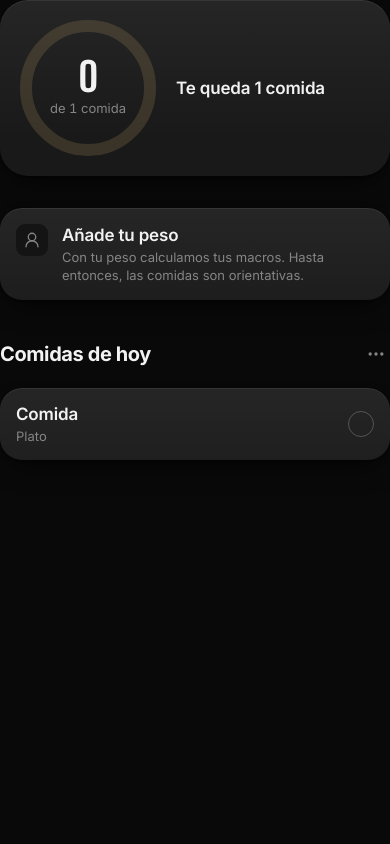
regenerate meals › asks first and then regenerates only the meals
This screenshot has width=390, height=844.
Later steps or results of the test are not shown.
expect the button "Regenerar" is not shown: met
Press Enter in the button named "Más opciones de las comidas", box [354,332,389,376]
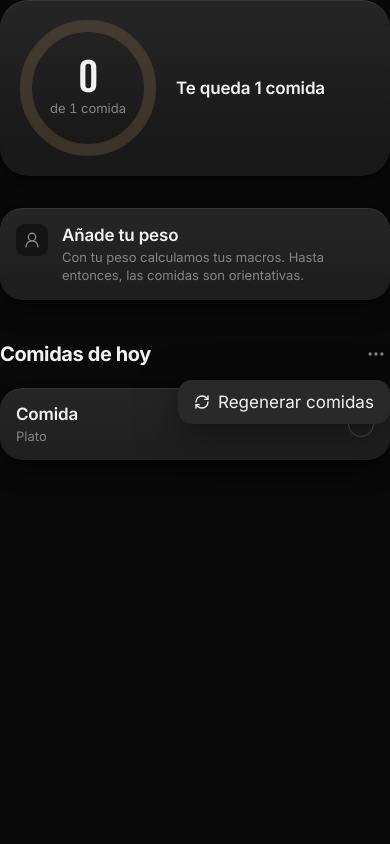
Click the menu item "Regenerar comidas": (284, 402) [178,380,389,424]
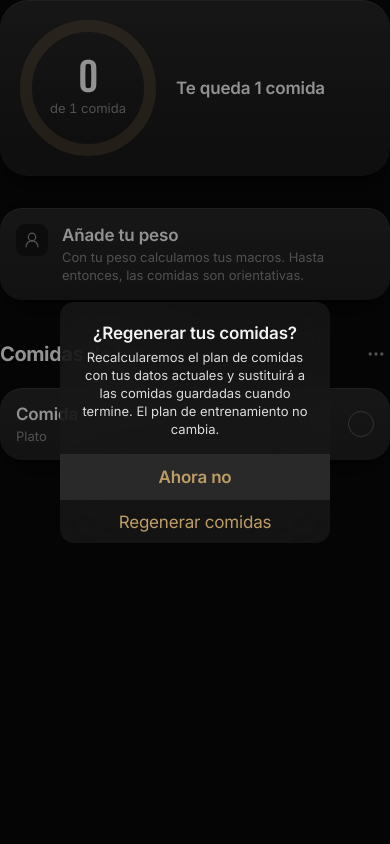
expect the heading "¿Regenerar tus comidas?" is shown: met, box [76,322,314,344]
